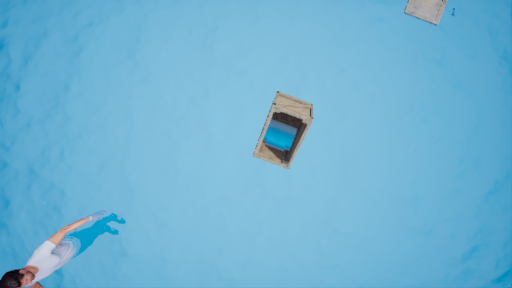person: (6, 213, 129, 288)
